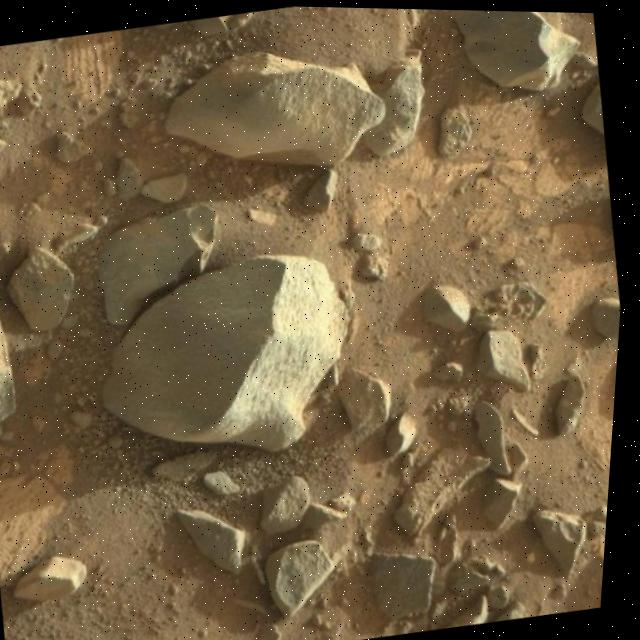mars-rocks: (106, 256, 350, 451), (166, 51, 386, 165), (102, 205, 218, 325), (451, 8, 580, 88), (364, 58, 425, 155), (9, 248, 76, 332), (272, 540, 341, 618), (182, 510, 251, 573), (378, 553, 443, 618), (539, 508, 593, 577), (343, 369, 395, 439), (19, 558, 92, 602), (482, 330, 535, 390), (0, 316, 19, 423)
